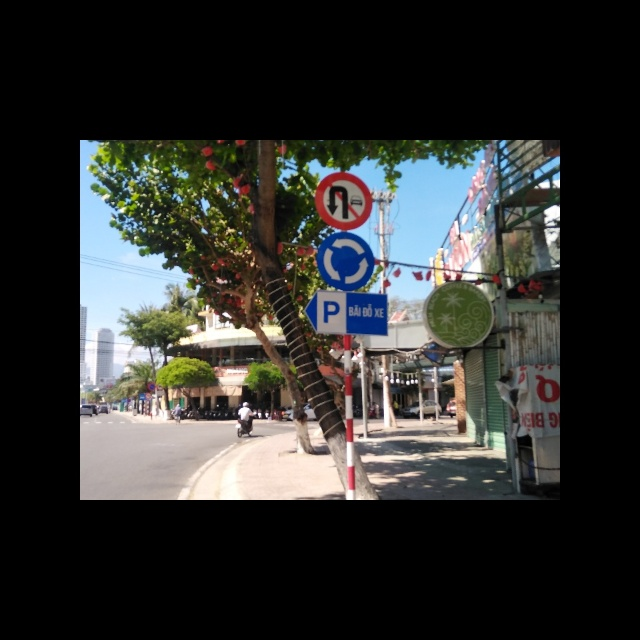Cấm xe ô tô quay đầu: (315, 171, 373, 231)
Nơi giao nhau chạy theo vòng xuyến: (316, 232, 375, 289)
Nơi đỗ xe: (301, 291, 389, 337)
